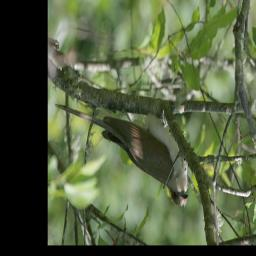Cuckoo: (53, 99, 188, 209)
